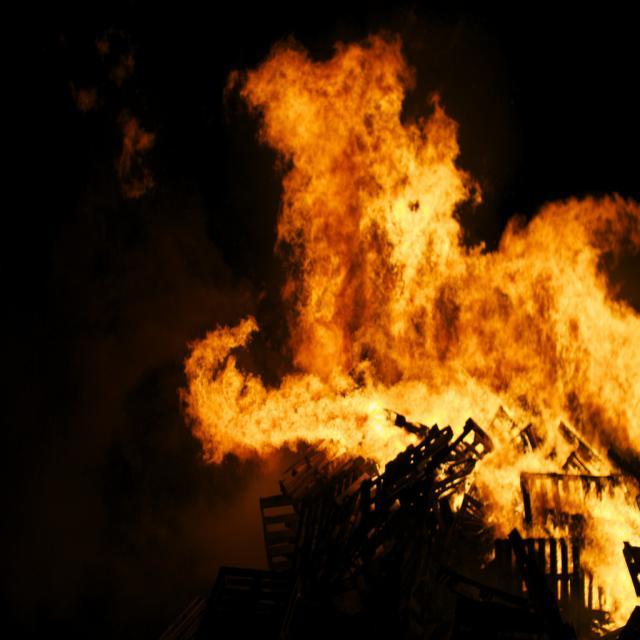Fire: (215, 389, 386, 445), (298, 66, 349, 188), (392, 161, 455, 256), (582, 314, 638, 416)
